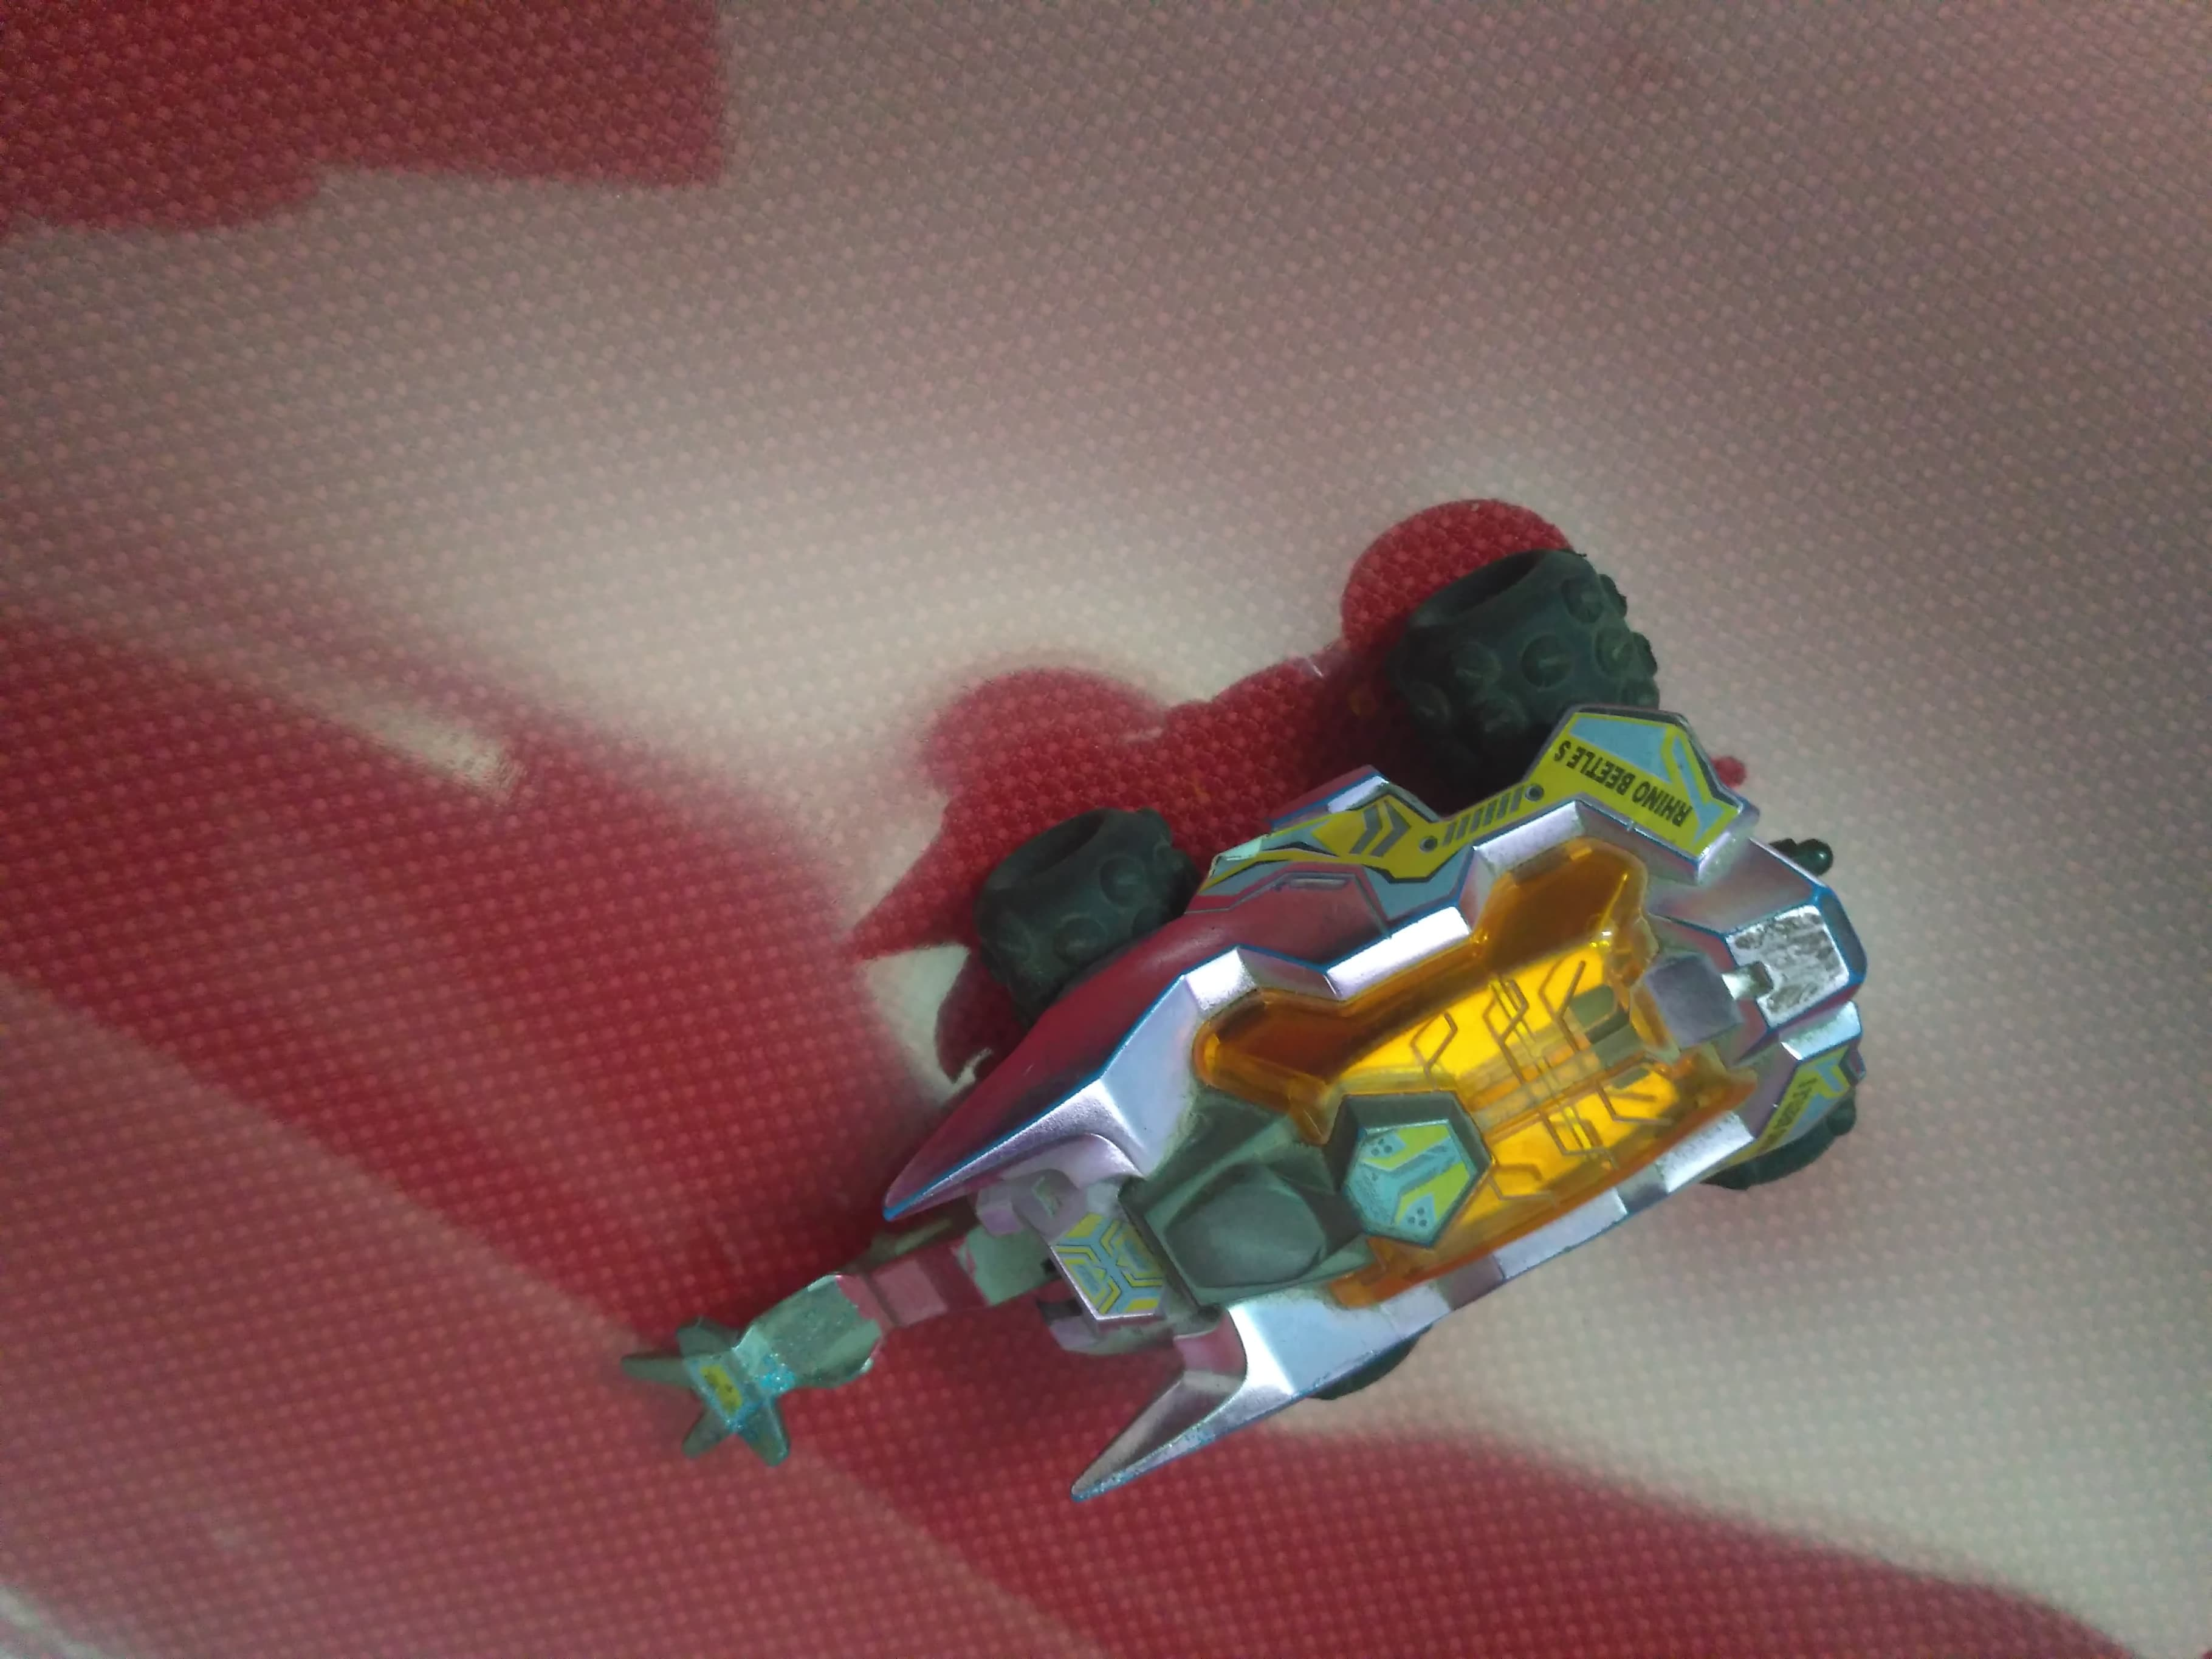rhino: (604, 544, 1878, 1520)
